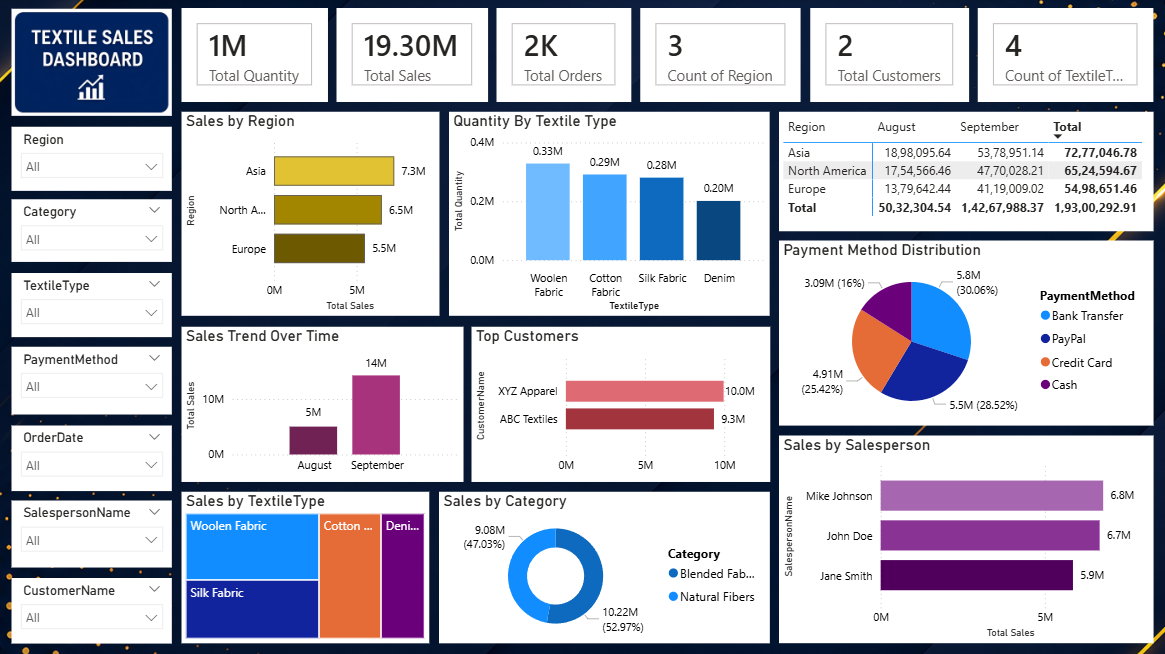

Layout of this report page (visuals, bound fields, positions):
{"tool":"powerbi","page":{"name":"DASHBOARD","canvas":[1280,720],"ordinal":12},"visuals":[{"type":"cardVisual","fields":{"Data":["Textile+Dataset.Total Sales"]},"box":[370.4,11.3,166.2,102.8],"z":0},{"type":"cardVisual","fields":{"Data":["Textile+Dataset.Total Quantity"]},"box":[200,11.3,160.6,102.8],"z":1000},{"type":"cardVisual","fields":{"Data":["Textile+Dataset.Total Orders"]},"box":[546.5,11.3,147.9,102.8],"z":2000},{"type":"cardVisual","fields":{"Data":["Textile+Dataset.Total Customers"]},"box":[890.1,11.3,174.6,102.8],"z":3000},{"type":"cardVisual","fields":{"Data":["Count(Textile+Dataset.Region)"]},"box":[704.2,11.3,176.1,102.8],"z":4000},{"type":"slicer","fields":{"Values":["Textile+Dataset.Region"]},"box":[14.1,140.8,176.1,70.4],"z":5000},{"type":"slicer","fields":{"Values":["Textile+Dataset.Category"]},"box":[14.1,221.1,176.1,69],"z":6000},{"type":"slicer","fields":{"Values":["Textile+Dataset.TextileType"]},"box":[14.1,301.4,176.1,70.4],"z":7000},{"type":"slicer","fields":{"Values":["Textile+Dataset.PaymentMethod"]},"box":[14.1,383.1,176.1,74.6],"z":8000},{"type":"slicer","fields":{"Values":["Textile+Dataset.OrderDate"]},"box":[14.1,469,176.1,71.8],"z":9000},{"type":"slicer","fields":{"Values":["Textile+Dataset.CustomerName"]},"box":[14.1,636.6,176.1,71.8],"z":10000},{"type":"slicer","fields":{"Values":["Textile+Dataset.SalespersonName"]},"box":[14.1,552.1,176.1,73.2],"z":11000},{"type":"image","box":[14.1,11.3,176.1,119.7],"z":12000},{"type":"cardVisual","fields":{"Data":["Count(Textile+Dataset.TextileType)"]},"box":[1074.6,11.3,193,102.8],"z":13000},{"type":"clusteredBarChart","title":"Sales by Region","fields":{"Y":["Textile+Dataset.Total Sales"],"Category":["Textile+Dataset.Region"]},"box":[200,125.4,283.1,223.9],"z":14000},{"type":"donutChart","title":"Sales by Category","fields":{"Y":["Textile+Dataset.Total Sales"],"Category":["Textile+Dataset.Category"]},"box":[483.1,542.3,363.4,166.2],"z":15000},{"type":"columnChart","title":"Quantity By Textile Type","fields":{"Category":["Textile+Dataset.TextileType"],"Y":["Textile+Dataset.Total Quantity"]},"box":[494.4,125.4,352.1,223.9],"z":16000},{"type":"pieChart","title":"Payment Method Distribution","fields":{"Category":["Textile+Dataset.PaymentMethod"],"Y":["Textile+Dataset.Total Sales"]},"box":[856.3,266.2,411.3,202.8],"z":17000},{"type":"pivotTable","fields":{"Rows":["Textile+Dataset.Region"],"Values":["Textile+Dataset.Total Sales"],"Columns":["Textile+Dataset.OrderDate.Variation.Date Hierarchy.Month"]},"box":[856.3,125.4,411.3,131],"z":18000},{"type":"treemap","title":"Sales by TextileType","fields":{"Group":["Textile+Dataset.TextileType"],"Values":["Textile+Dataset.Total Sales"]},"box":[200,542.3,271.8,166.2],"z":19000},{"type":"clusteredBarChart","title":"Top Customers","fields":{"Category":["Textile+Dataset.CustomerName"],"Y":["Textile+Dataset.Total Sales"]},"box":[518.3,360.6,328.2,170.4],"z":20000},{"type":"clusteredBarChart","title":"Sales by Salesperson","fields":{"Category":["Textile+Dataset.SalespersonName"],"Y":["Textile+Dataset.Total Sales"]},"box":[856.3,480.3,411.3,228.2],"z":21000},{"type":"lineStackedColumnComboChart","title":"Sales Trend Over Time","fields":{"Y":["Textile+Dataset.Total Sales"],"Category":["Textile+Dataset.OrderDate.Variation.Date Hierarchy.Month"]},"box":[200,360.6,309.9,170.4],"z":22000}]}

Visuals, with their boxes in screenshot pixels (x1, y1, x2, y2), scaled from the page's 1280x720 canvas onto the 1165x654 screenshot:
cardVisual - Textile+Dataset.Total Sales: 337 10 488 104
cardVisual - Textile+Dataset.Total Quantity: 182 10 328 104
cardVisual - Textile+Dataset.Total Orders: 497 10 632 104
cardVisual - Textile+Dataset.Total Customers: 810 10 969 104
cardVisual - Count(Textile+Dataset.Region): 641 10 801 104
slicer - Textile+Dataset.Region: 13 128 173 192
slicer - Textile+Dataset.Category: 13 201 173 264
slicer - Textile+Dataset.TextileType: 13 274 173 338
slicer - Textile+Dataset.PaymentMethod: 13 348 173 416
slicer - Textile+Dataset.OrderDate: 13 426 173 491
slicer - Textile+Dataset.CustomerName: 13 578 173 643
slicer - Textile+Dataset.SalespersonName: 13 501 173 568
image: 13 10 173 119
cardVisual - Count(Textile+Dataset.TextileType): 978 10 1154 104
"Sales by Region" clusteredBarChart: 182 114 440 317
"Sales by Category" donutChart: 440 493 770 644
"Quantity By Textile Type" columnChart: 450 114 770 317
"Payment Method Distribution" pieChart: 779 242 1154 426
pivotTable - Textile+Dataset.Region x Textile+Dataset.Total Sales: 779 114 1154 233
"Sales by TextileType" treemap: 182 493 429 644
"Top Customers" clusteredBarChart: 472 328 770 482
"Sales by Salesperson" clusteredBarChart: 779 436 1154 644
"Sales Trend Over Time" lineStackedColumnComboChart: 182 328 464 482
